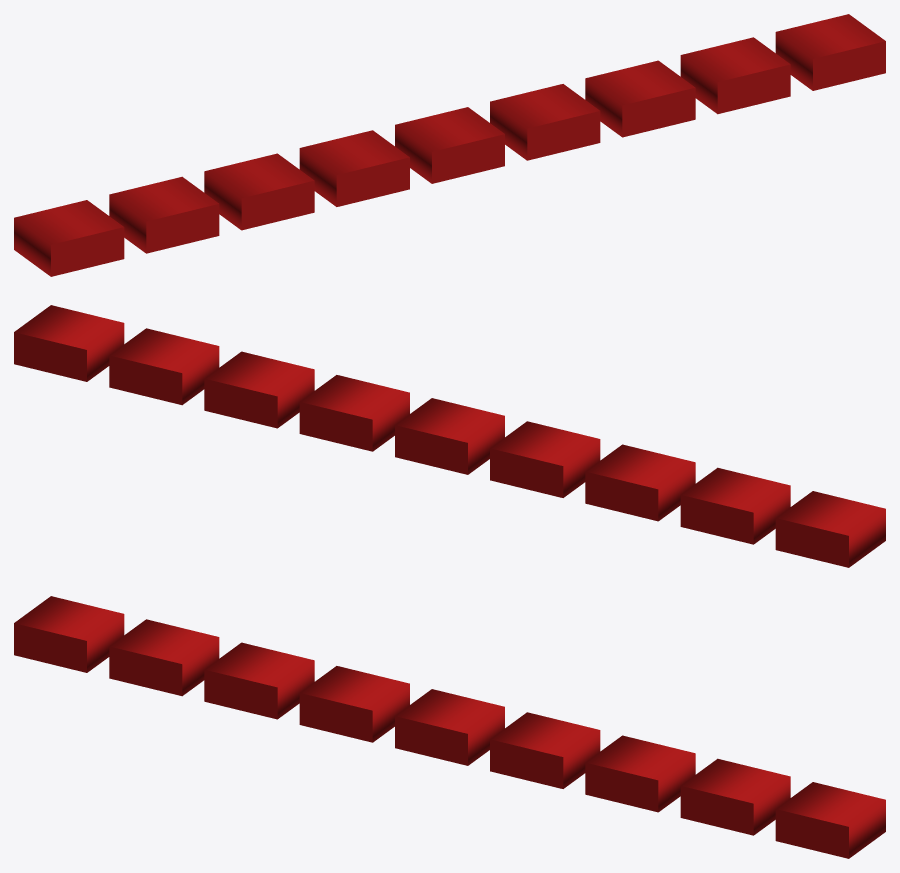
3 renders of one model, top to bottom at view 1: azimuth 30°, elevation 25°; view 2: azimuth 150°, elevation 25°; view 3: azimuth 330°, elevation 25°, orthographic.
Parts seen in each view (by area): view 1: Text; view 2: Text; view 3: Text.
Part boxes in pixels (x1,y1,x2,y2): Text: [14, 14, 885, 276]; Text: [14, 305, 885, 567]; Text: [14, 596, 885, 858].
Size of the model in its own units: 10.41 by 0.3821 by 0.8.
